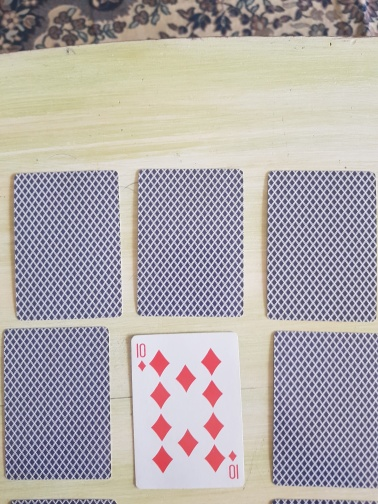ten: (130, 330, 247, 490)
